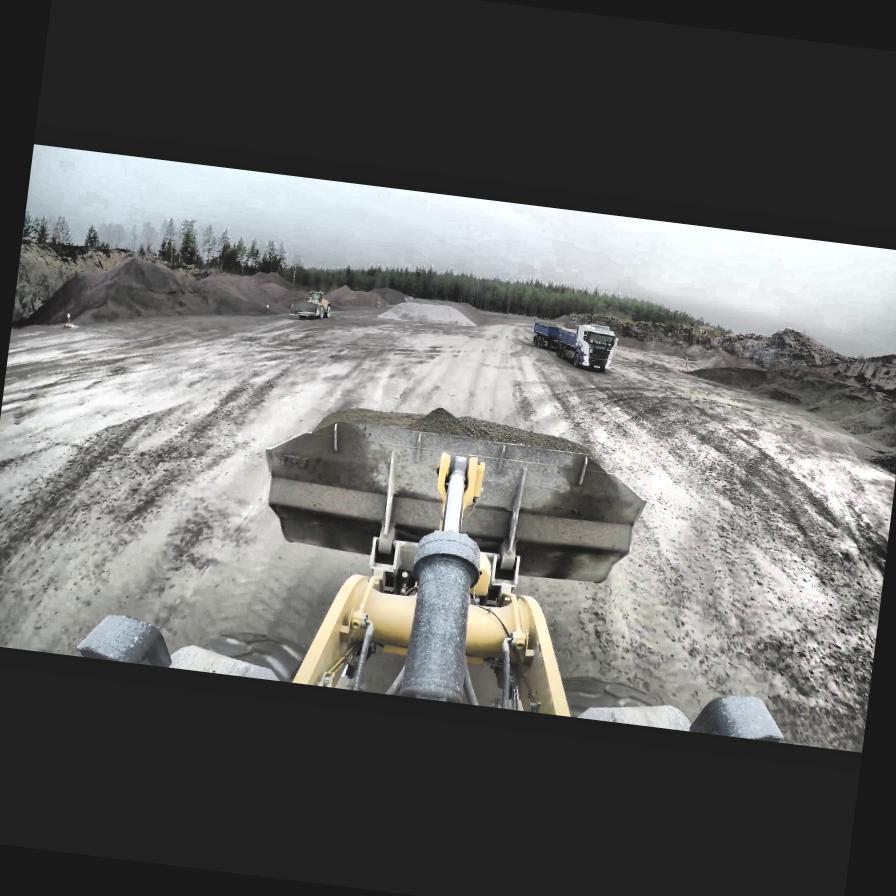anchor: (430, 450, 485, 532)
pile of gravel: (12, 238, 288, 354), (688, 346, 896, 458), (379, 295, 480, 330), (684, 360, 770, 392), (335, 282, 411, 314), (326, 282, 358, 306), (550, 312, 575, 326)
